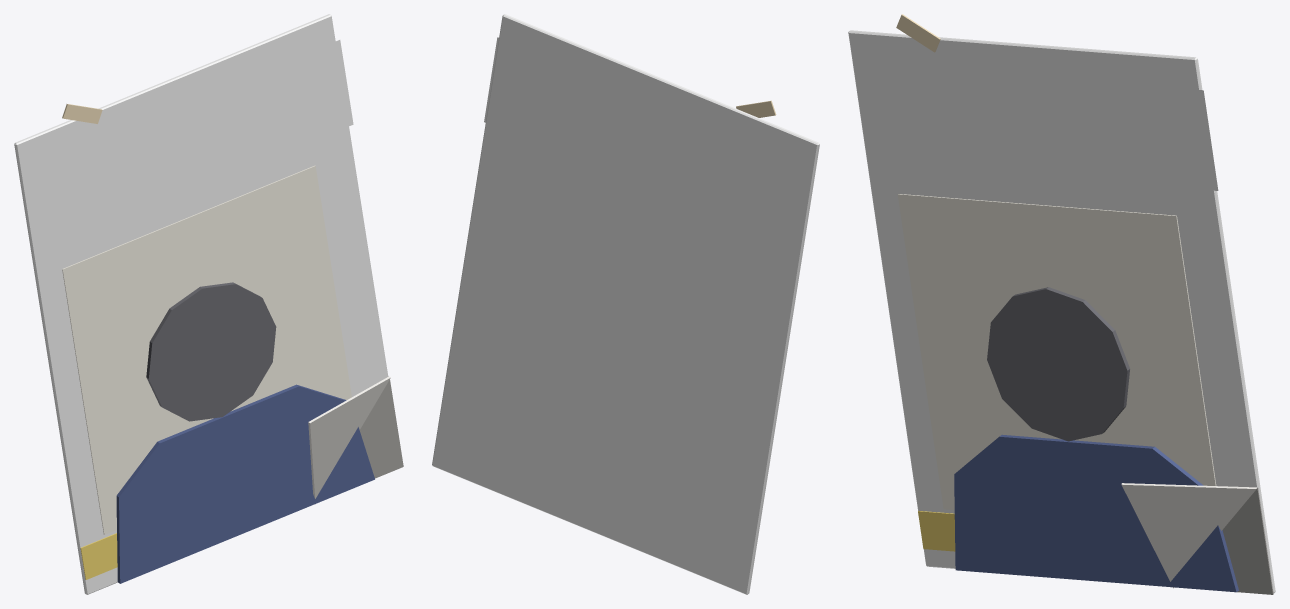
File: prop_poster_campaign_02.glb
The picture shows the model from 3 angles, left to right: view 1: azimuth 30°, elevation 25°; view 2: azimuth 150°, elevation 25°; view 3: azimuth 330°, elevation 25°; orthographic projection. The views are drawn at different scales.
Visible parts, largest first — view 1: prop_poster_campaign_02_body; view 2: prop_poster_campaign_02_body; view 3: prop_poster_campaign_02_body.
Part boxes in pixels (x1=…): prop_poster_campaign_02_body: x1=14, y1=14, x2=403, y2=594; prop_poster_campaign_02_body: x1=432, y1=14, x2=819, y2=594; prop_poster_campaign_02_body: x1=848, y1=14, x2=1275, y2=594.
Size of the model in its own units: 0.7253 by 0.9328 by 0.0818.
